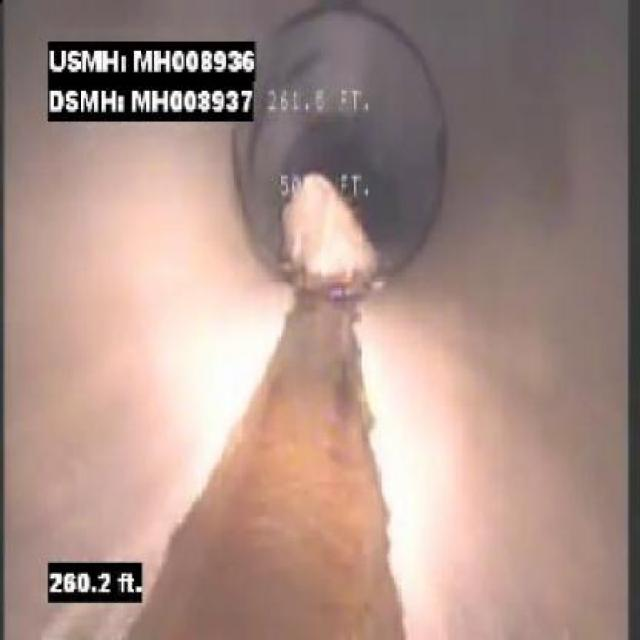Obstacle: (257, 145, 409, 306)
